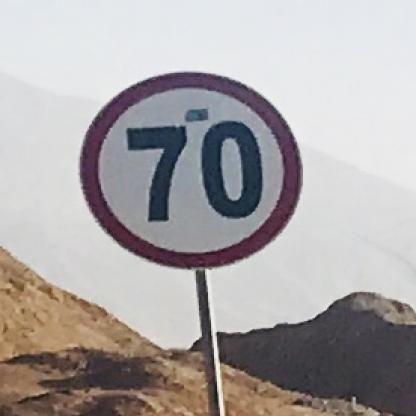Speed Limit -70 kmph-: (81, 70, 304, 268)
